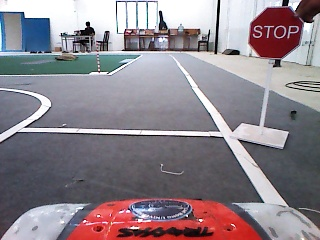stop: (247, 5, 305, 59)
